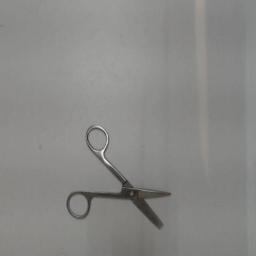Dressing Scissors: (63, 119, 181, 239)
